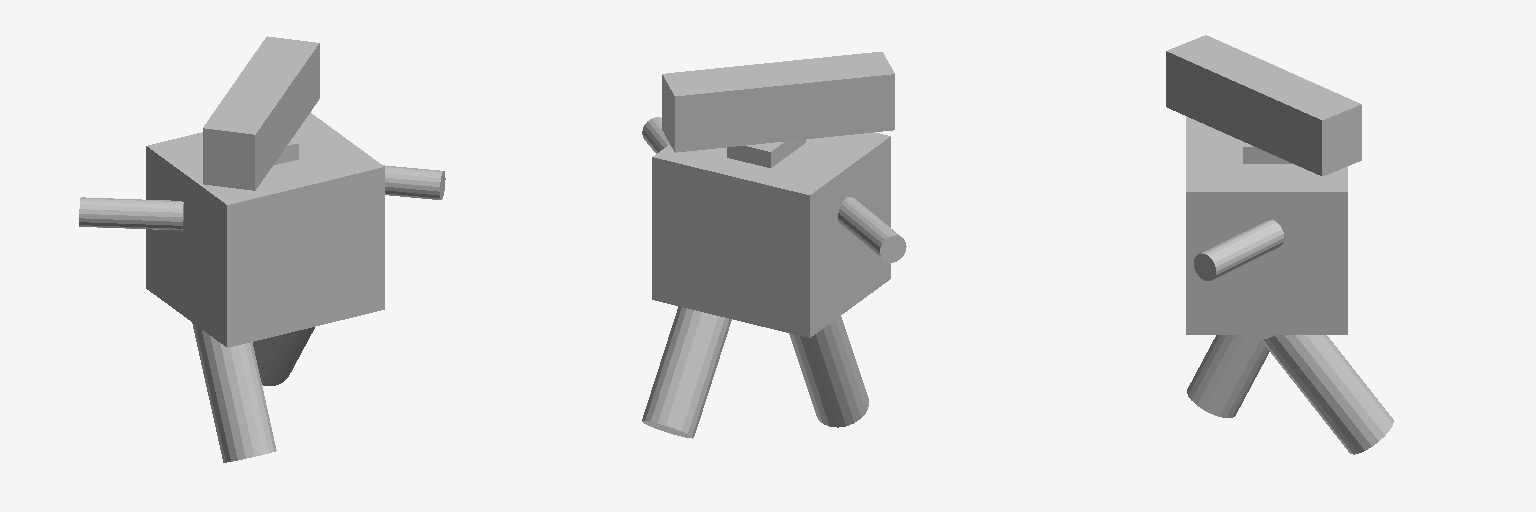
The model's file is simple_man_base.obj.
3 views of the same model, side by side, from view 1: azimuth 30°, elevation 25°; view 2: azimuth 150°, elevation 25°; view 3: azimuth 270°, elevation 25° (orthographic).
Visible parts, largest first — view 1: pCube1 polySurface2 polySurface1, pCube2 polySurface2 polySurface1, group pasted__pCylinder1 polySurface2 polySurface1, pCylinder2 polySurface2 polySurface1, pCylinder1 polySurface2 polySurface1, group2 pasted__pCylinder2 polySurface2 polySurface1; view 2: pCube1 polySurface2 polySurface1, pCube2 polySurface2 polySurface1, pCylinder1 polySurface2 polySurface1, group pasted__pCylinder1 polySurface2 polySurface1, pCylinder2 polySurface2 polySurface1, pCube3 polySurface2 polySurface1, group2 pasted__pCylinder2 polySurface2 polySurface1; view 3: pCube1 polySurface2 polySurface1, pCube2 polySurface2 polySurface1, pCylinder1 polySurface2 polySurface1, group pasted__pCylinder1 polySurface2 polySurface1, group2 pasted__pCylinder2 polySurface2 polySurface1, pCube3 polySurface2 polySurface1.
Boxes of the visible parts, x1=… form: pCube1 polySurface2 polySurface1: x1=146, y1=112, x2=384, y2=347; pCube2 polySurface2 polySurface1: x1=203, y1=36, x2=319, y2=190; group pasted__pCylinder1 polySurface2 polySurface1: x1=192, y1=323, x2=276, y2=462; pCylinder2 polySurface2 polySurface1: x1=79, y1=197, x2=183, y2=230; pCylinder1 polySurface2 polySurface1: x1=253, y1=327, x2=314, y2=385; group2 pasted__pCylinder2 polySurface2 polySurface1: x1=383, y1=165, x2=445, y2=199; pCube1 polySurface2 polySurface1: x1=652, y1=132, x2=890, y2=337; pCube2 polySurface2 polySurface1: x1=662, y1=52, x2=894, y2=152; pCylinder1 polySurface2 polySurface1: x1=642, y1=306, x2=731, y2=438; group pasted__pCylinder1 polySurface2 polySurface1: x1=789, y1=316, x2=868, y2=427; pCylinder2 polySurface2 polySurface1: x1=838, y1=197, x2=906, y2=262; pCube3 polySurface2 polySurface1: x1=727, y1=139, x2=805, y2=167; group2 pasted__pCylinder2 polySurface2 polySurface1: x1=642, y1=117, x2=669, y2=153; pCube1 polySurface2 polySurface1: x1=1186, y1=116, x2=1347, y2=334; pCube2 polySurface2 polySurface1: x1=1166, y1=35, x2=1361, y2=176; pCylinder1 polySurface2 polySurface1: x1=1258, y1=335, x2=1393, y2=454; group pasted__pCylinder1 polySurface2 polySurface1: x1=1187, y1=335, x2=1269, y2=417; group2 pasted__pCylinder2 polySurface2 polySurface1: x1=1194, y1=220, x2=1283, y2=280; pCube3 polySurface2 polySurface1: x1=1243, y1=142, x2=1292, y2=163.
Size of the model in its own units: 5.03 by 5.4 by 3.15.